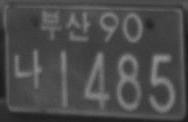0: (121, 12, 144, 43)
1: (51, 49, 79, 107)
4: (84, 50, 111, 111)
5: (147, 53, 176, 113)
8: (114, 51, 142, 111)
9: (98, 11, 120, 43)
나: (13, 49, 43, 89)
부산_O: (40, 9, 91, 43)
